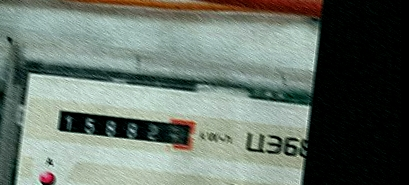1: (63, 112, 74, 129)
2: (146, 120, 158, 138)
5: (84, 114, 96, 131)
7: (168, 130, 178, 142)
8: (125, 119, 137, 137), (104, 118, 116, 135)
screen: (50, 98, 201, 154)
